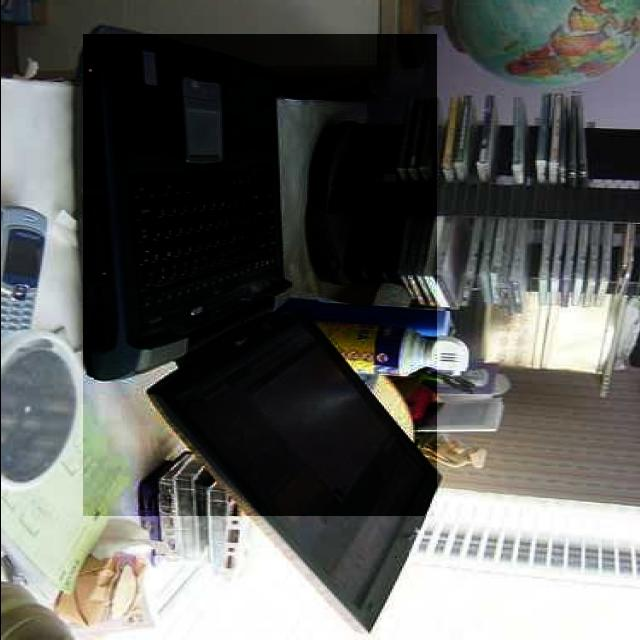-keyboard-: (84, 34, 438, 516)
